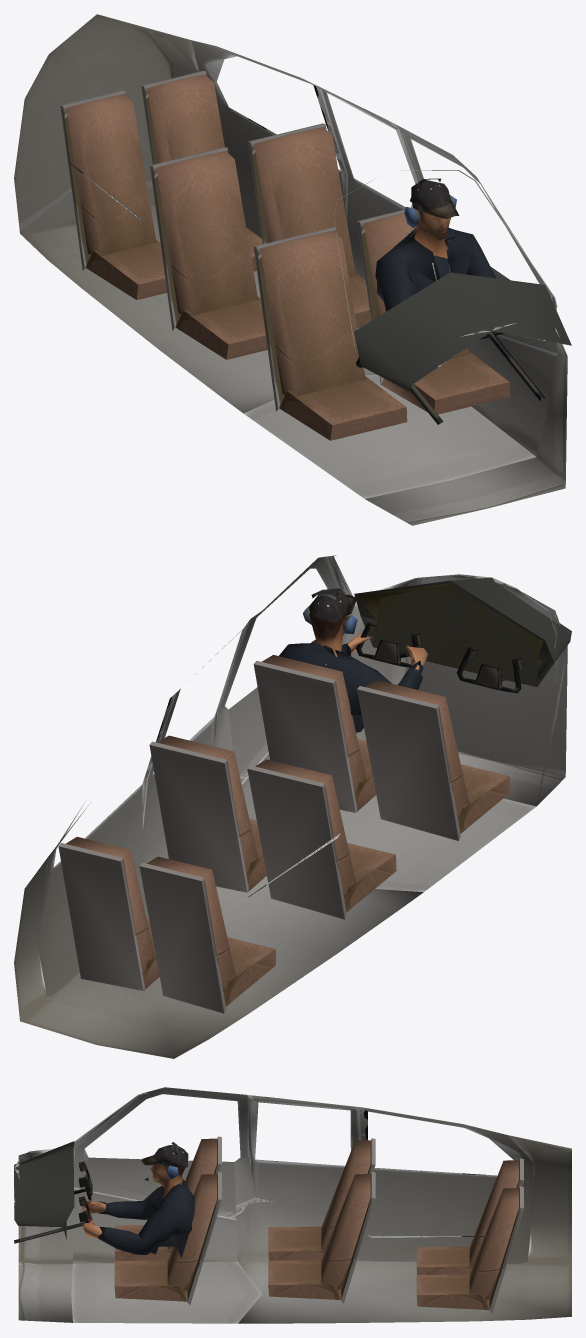
File: GaugeAircraft_Interior_LOD03.gltf
The picture shows the model from 3 angles, top to bottom: view 1: azimuth 30°, elevation 25°; view 2: azimuth 150°, elevation 25°; view 3: azimuth 270°, elevation 25°; orthographic projection. The views are drawn at different scales.
Visible parts, largest first — view 1: Interior, pilot; view 2: Interior, pilot; view 3: Interior, pilot.
Part boxes in pixels (<box>): Interior: <box>14,14,571,525</box>; pilot: <box>375,178,495,311</box>; Interior: <box>14,555,571,1058</box>; pilot: <box>279,588,428,732</box>; Interior: <box>14,1087,571,1323</box>; pilot: <box>81,1142,194,1257</box>.
Bounding box in the file's own units: 1.17 × 1.36 × 3.67.
